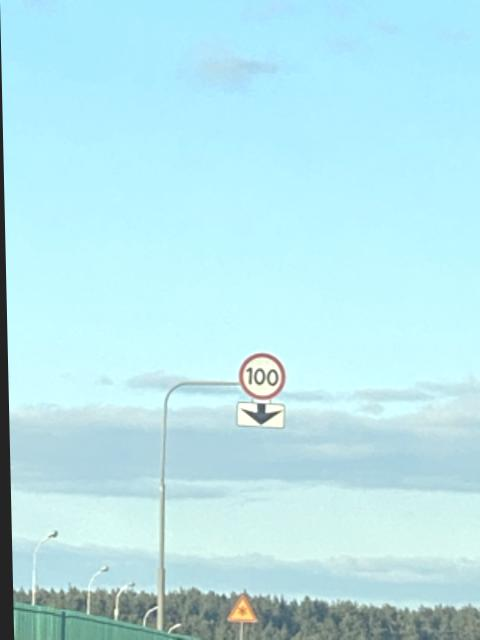limit100: (234, 351, 287, 405)
